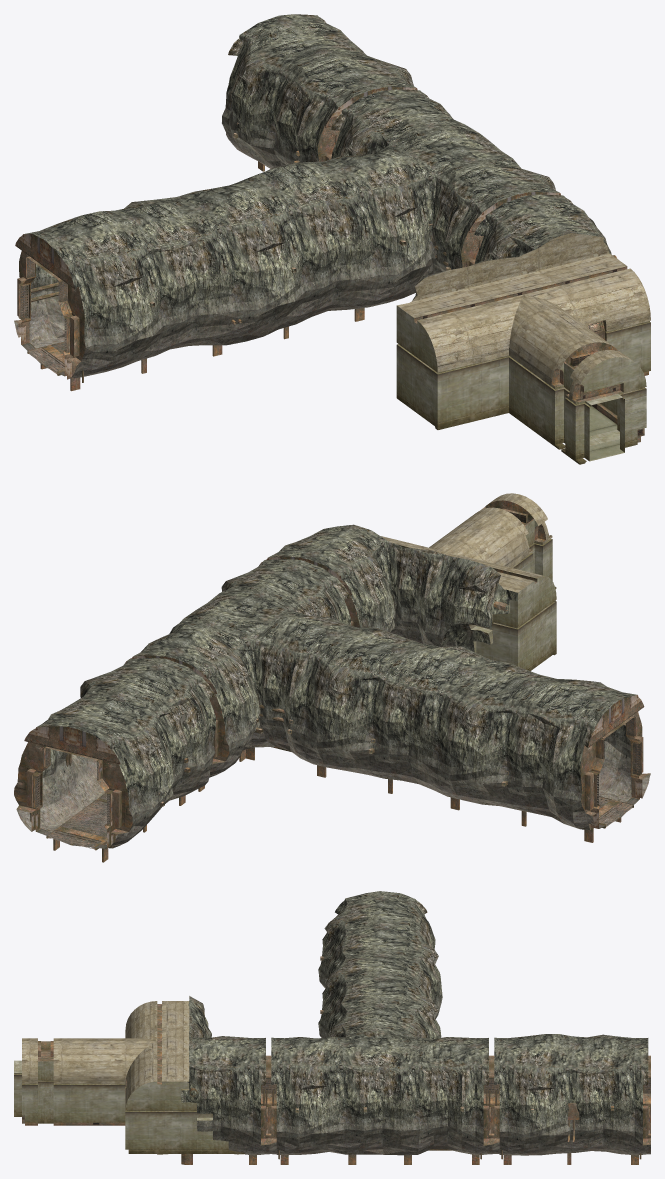
File: poi_all_bunker_allum_mine_r51_hall51_mesh_r51.fbx
3 renders of one model, top to bottom at view 1: azimuth 30°, elevation 25°; view 2: azimuth 150°, elevation 25°; view 3: azimuth 270°, elevation 25°, orthographic. The views are drawn at different scales.
Parts seen in each view (by area): view 1: mesh_node; view 2: mesh_node; view 3: mesh_node.
Boxes of the visible parts, x1,y1,x2,y2 form: mesh_node: (14,14,650,464); mesh_node: (14,493,650,862); mesh_node: (14,891,650,1164).
Bounding box in the file's own units: 26.89 × 7.73 × 40.
